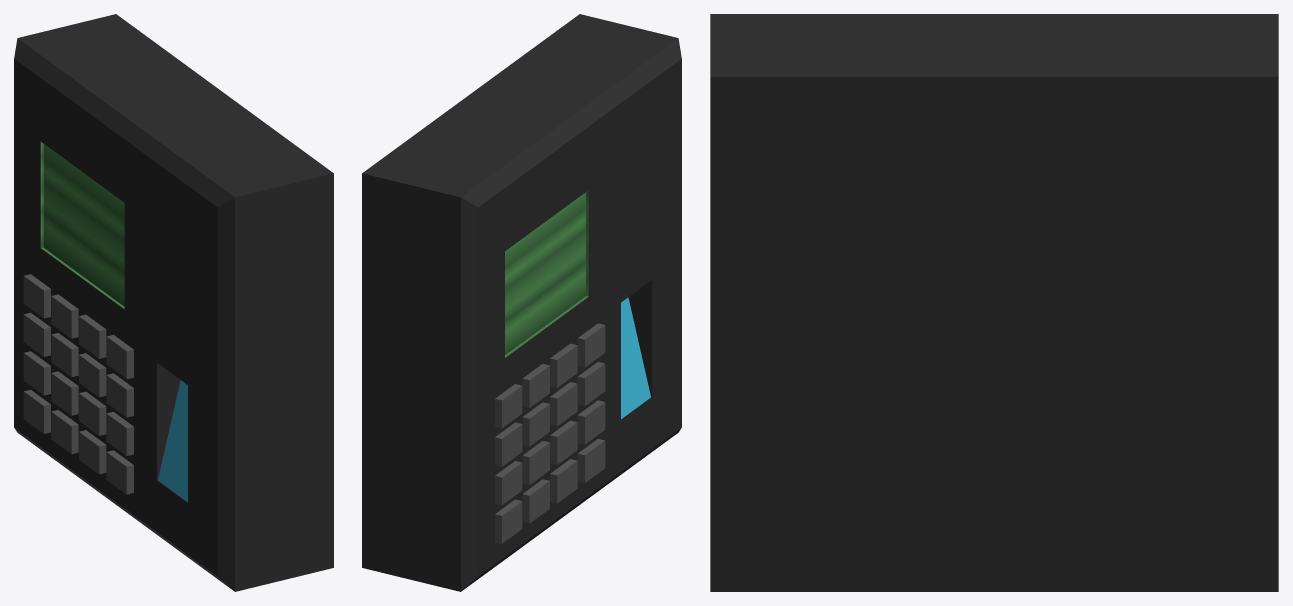
Rendered from Checador.fbx.
The picture shows the model from 3 angles, left to right: view 1: azimuth 30°, elevation 25°; view 2: azimuth 150°, elevation 25°; view 3: azimuth 270°, elevation 25°; orthographic projection. The views are drawn at different scales.
Parts seen in each view (by area): view 1: Checador; view 2: Checador; view 3: Checador.
Boxes of the visible parts, x1,y1,x2,y2 form: Checador: (14, 14, 333, 591); Checador: (362, 14, 681, 591); Checador: (710, 14, 1278, 591).
Bounding box in the file's own units: 14.48 × 46.99 × 46.99.
